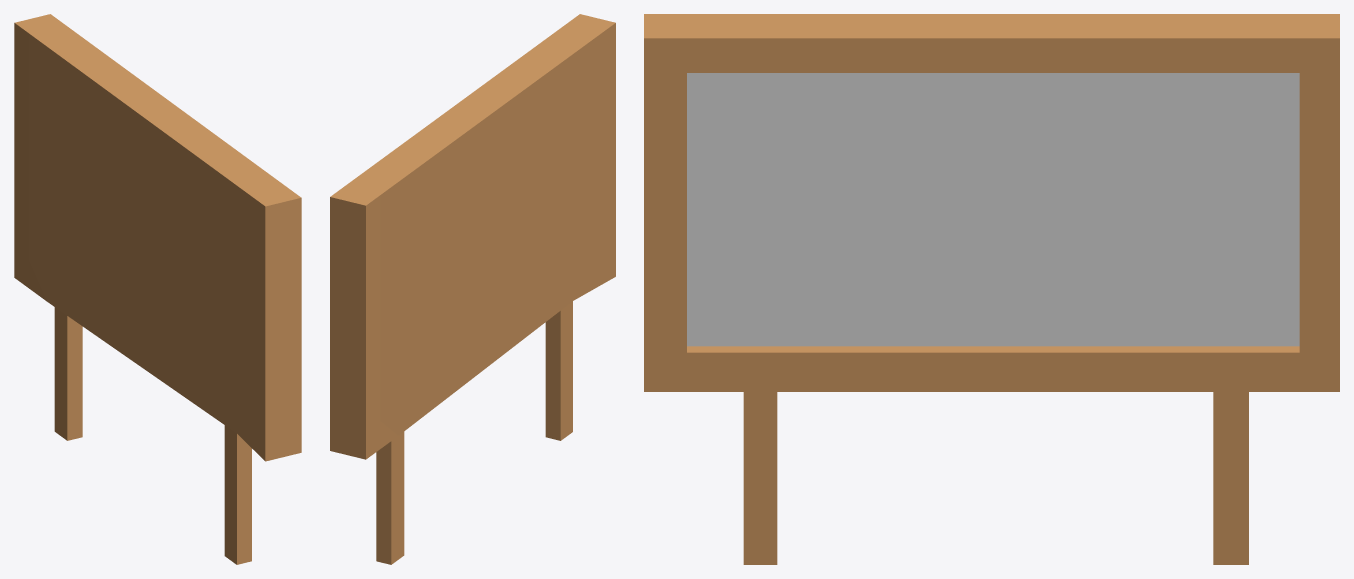
Rendered from tend.glb.
3 renders of one model, left to right at view 1: azimuth 30°, elevation 25°; view 2: azimuth 150°, elevation 25°; view 3: azimuth 270°, elevation 25°, orthographic. The views are drawn at different scales.
Visible parts, largest first — view 1: Cube; view 2: Cube; view 3: Cube.
Boxes of the visible parts, x1,y1,x2,y2 form: Cube: [14, 14, 301, 564]; Cube: [330, 14, 615, 564]; Cube: [644, 14, 1339, 564].
Size of the model in its own units: 0.5079 by 5.21 by 6.13.
